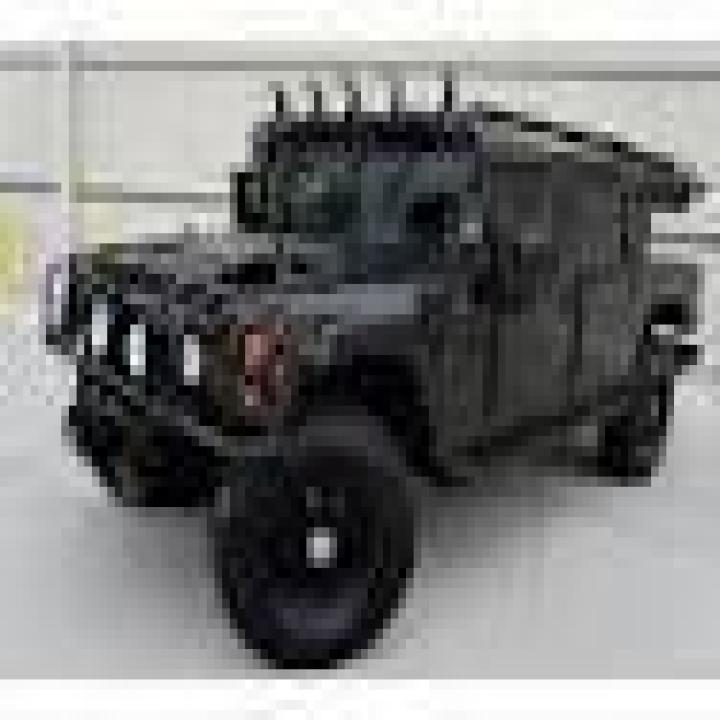car: (38, 61, 705, 659)
